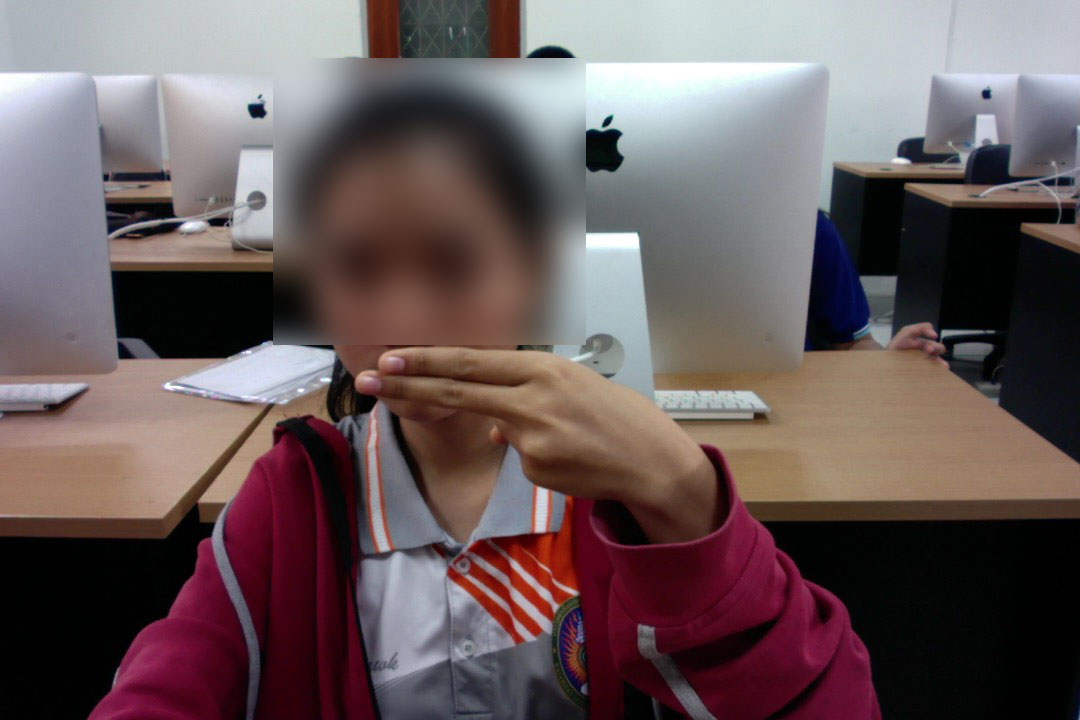hor: (347, 340, 714, 508)
